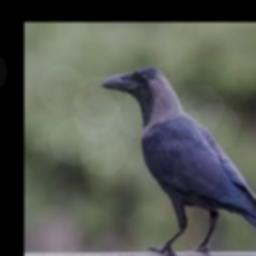Crow: (103, 66, 256, 256)
